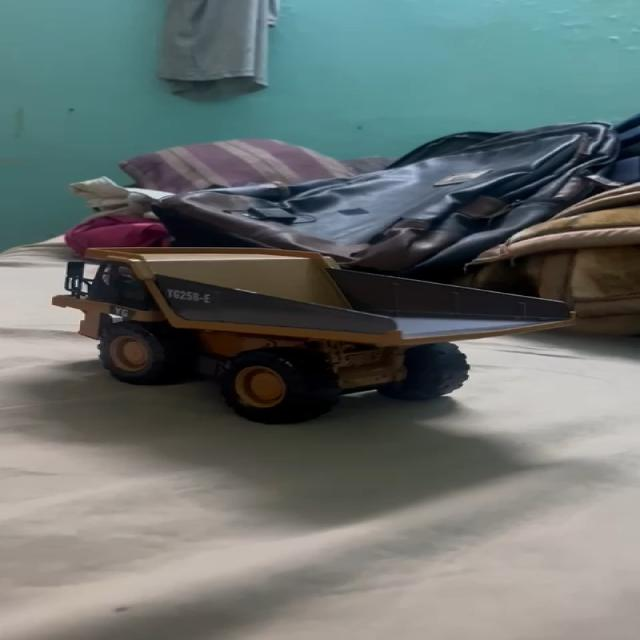dump_truck: (45, 243, 578, 423)
